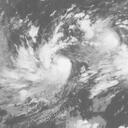cyclone: (20, 44, 72, 90), (89, 22, 124, 62)
